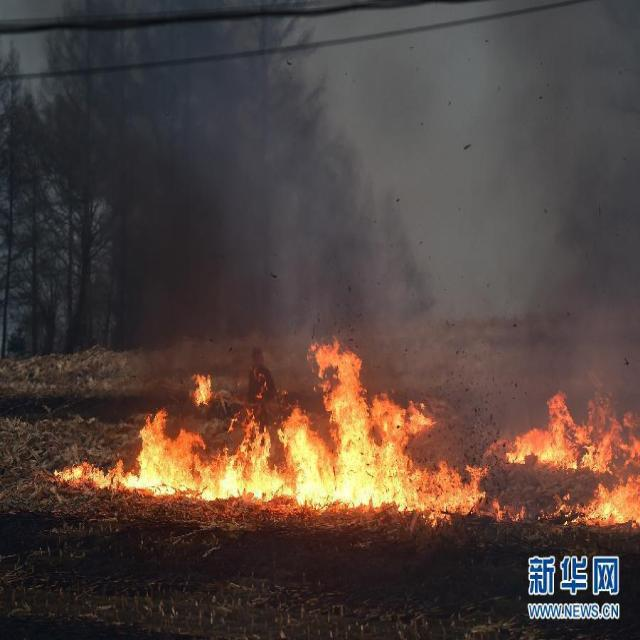fire: (52, 360, 638, 524)
